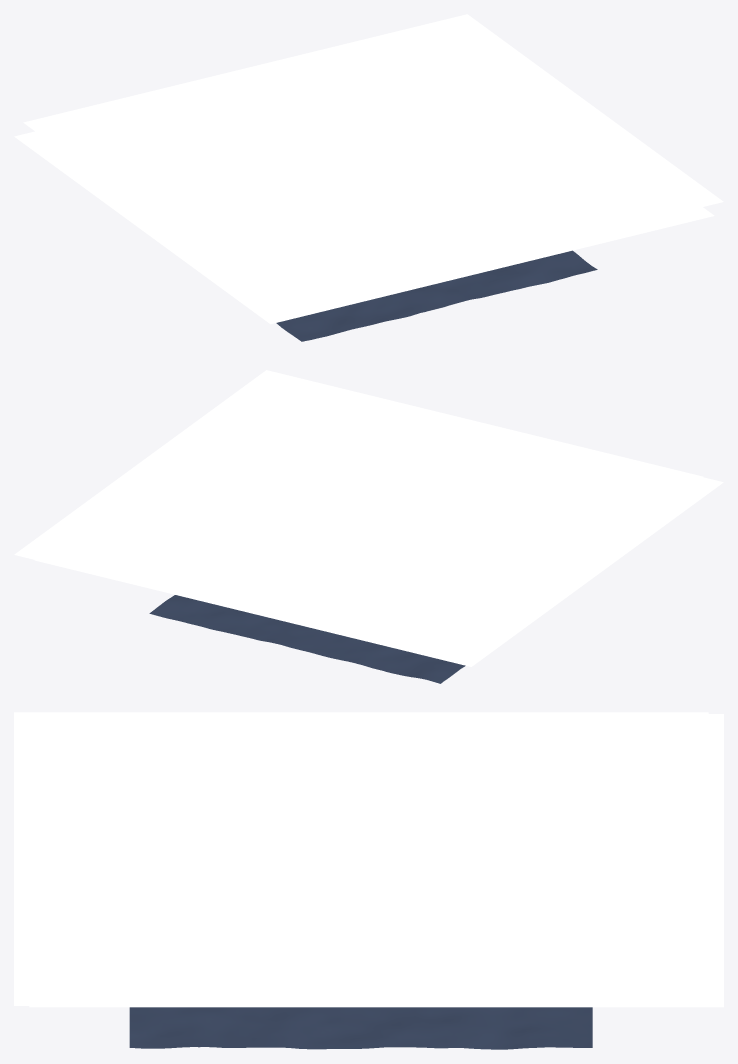
Rendered from world.glb.
3 renders of one model, top to bottom at view 1: azimuth 30°, elevation 25°; view 2: azimuth 150°, elevation 25°; view 3: azimuth 270°, elevation 25°, orthographic. The views are drawn at different scales.
Parts seen in each view (by area): view 1: CloudLayer1.001, CloudLayer0.001, SunkenWorldFloor; view 2: CloudLayer1.001, SunkenWorldFloor, CloudLayer0.001; view 3: CloudLayer1.001, SunkenWorldFloor, CloudLayer0.001.
Boxes of the visible parts, <box> form: CloudLayer1.001: <box>23,14,723,310</box>; CloudLayer0.001: <box>14,131,714,324</box>; SunkenWorldFloor: <box>276,250,597,341</box>; CloudLayer1.001: <box>14,370,703,661</box>; SunkenWorldFloor: <box>149,595,465,683</box>; CloudLayer0.001: <box>34,477,723,666</box>; CloudLayer1.001: <box>29,714,723,1007</box>; SunkenWorldFloor: <box>129,1007,592,1049</box>; CloudLayer0.001: <box>14,712,708,1005</box>.
Bounding box in the file's own units: 9300 × 1498 × 9200.
